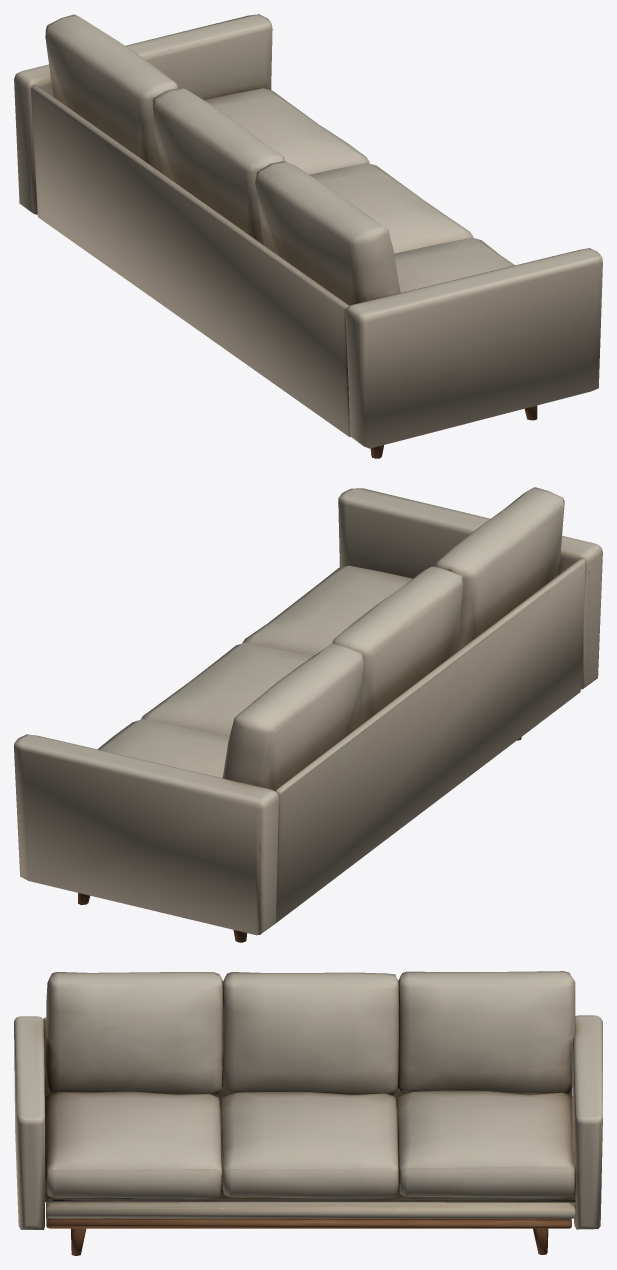
3 renders of one model, top to bottom at view 1: azimuth 30°, elevation 25°; view 2: azimuth 150°, elevation 25°; view 3: azimuth 270°, elevation 25°, orthographic. The views are drawn at different scales.
Parts seen in each view (by area): view 1: tripo_node_5517b3a0-2063-4a23-a34d-1aa0ce05eda8; view 2: tripo_node_5517b3a0-2063-4a23-a34d-1aa0ce05eda8; view 3: tripo_node_5517b3a0-2063-4a23-a34d-1aa0ce05eda8.
Boxes of the visible parts, box(x1,y1,x2,y2) form: tripo_node_5517b3a0-2063-4a23-a34d-1aa0ce05eda8: box(14, 14, 602, 458); tripo_node_5517b3a0-2063-4a23-a34d-1aa0ce05eda8: box(14, 487, 602, 942); tripo_node_5517b3a0-2063-4a23-a34d-1aa0ce05eda8: box(14, 971, 602, 1255).
Size of the model in its own units: 0.4277 by 0.3848 by 0.998.
1 material, 1 textured.
